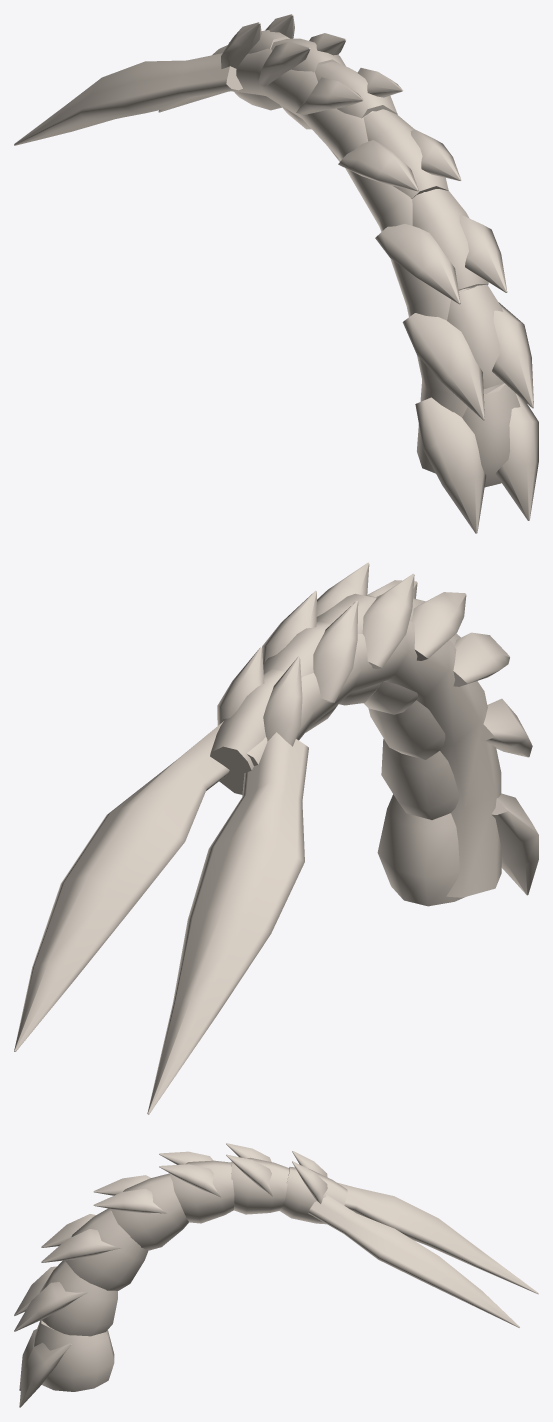
File: beetle_sting.glb
The picture shows the model from 3 angles, top to bottom: view 1: azimuth 30°, elevation 25°; view 2: azimuth 150°, elevation 25°; view 3: azimuth 270°, elevation 25°; orthographic projection. The views are drawn at different scales.
Parts seen in each view (by area): view 1: beetle_sting; view 2: beetle_sting; view 3: beetle_sting.
Part boxes in pixels (box(x1,y1,x2,y2)): beetle_sting: box(14, 14, 538, 533); beetle_sting: box(14, 562, 538, 1114); beetle_sting: box(14, 1143, 538, 1407).
Bounding box in the file's own units: 0.4826 × 0.9486 × 1.84.
